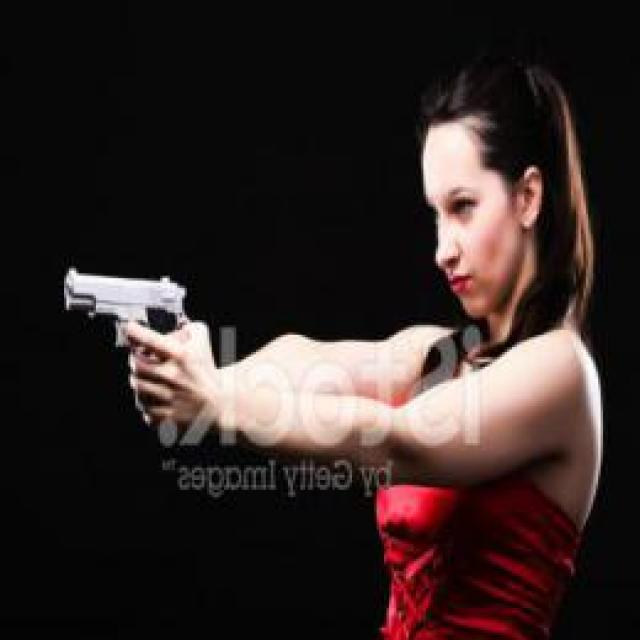pistol: (64, 261, 190, 368)
